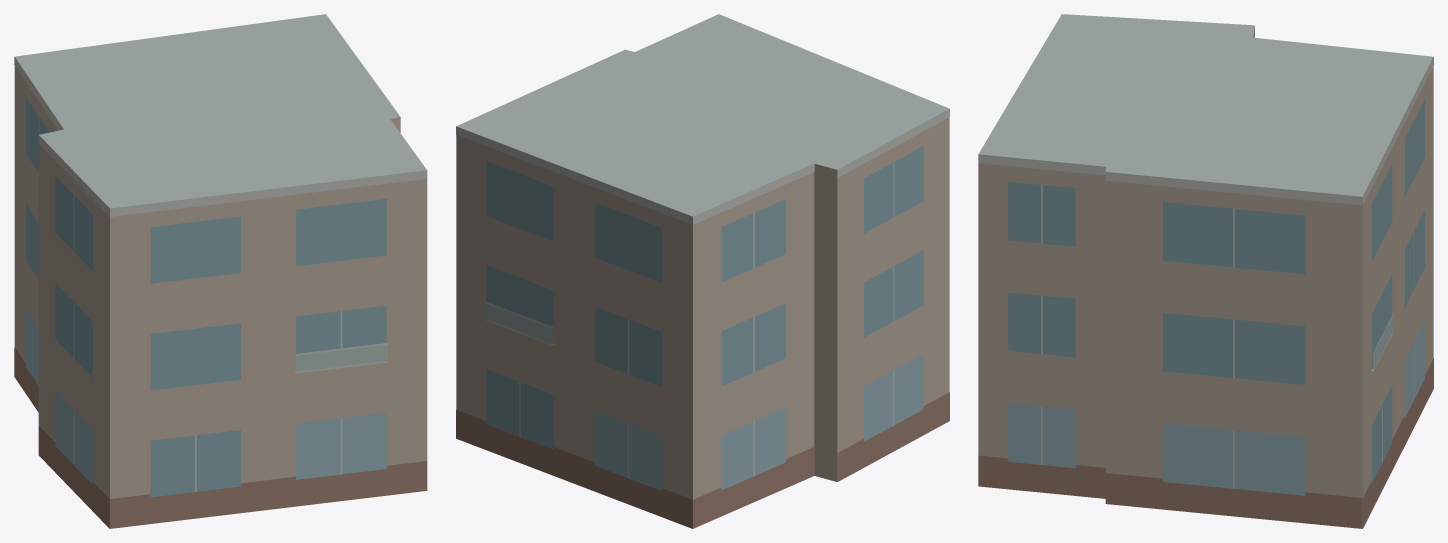
The model's file is survey-upis-32895117.glb.
3 renders of one model, left to right at view 1: azimuth 30°, elevation 25°; view 2: azimuth 150°, elevation 25°; view 3: azimuth 270°, elevation 25°, orthographic. The views are drawn at different scales.
Visible parts, largest first — view 1: survey-upis-32895117.tmp; view 2: survey-upis-32895117.tmp; view 3: survey-upis-32895117.tmp.
Boxes of the visible parts, <box> form: survey-upis-32895117.tmp: <box>14,14,427,528</box>; survey-upis-32895117.tmp: <box>456,14,949,528</box>; survey-upis-32895117.tmp: <box>978,14,1433,528</box>.
Size of the model in its own units: 10.81 by 9.15 by 11.38.
